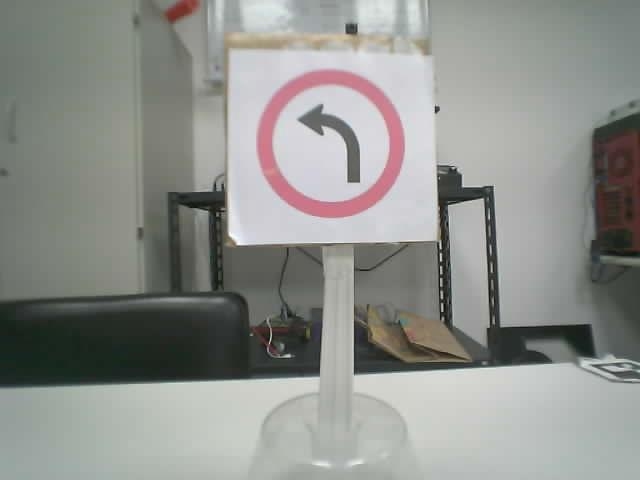R-25a_esquerda: (254, 68, 405, 218)
